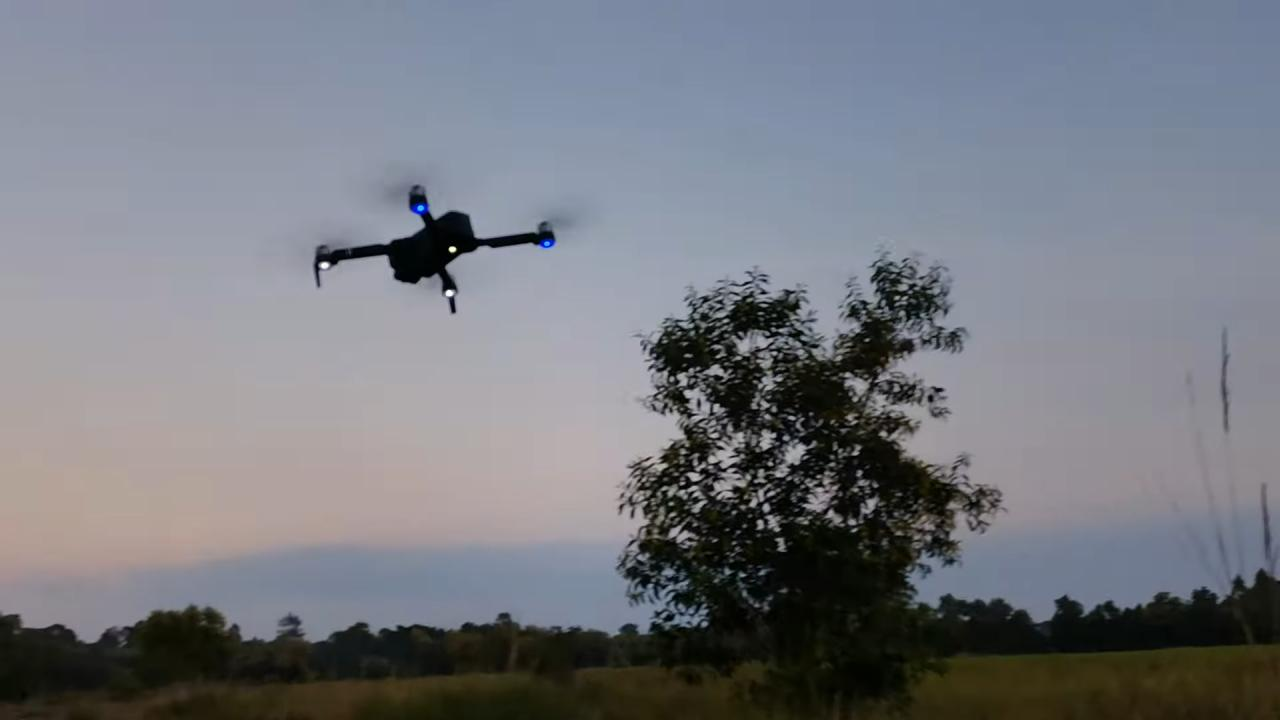Drone: (287, 158, 599, 329)
